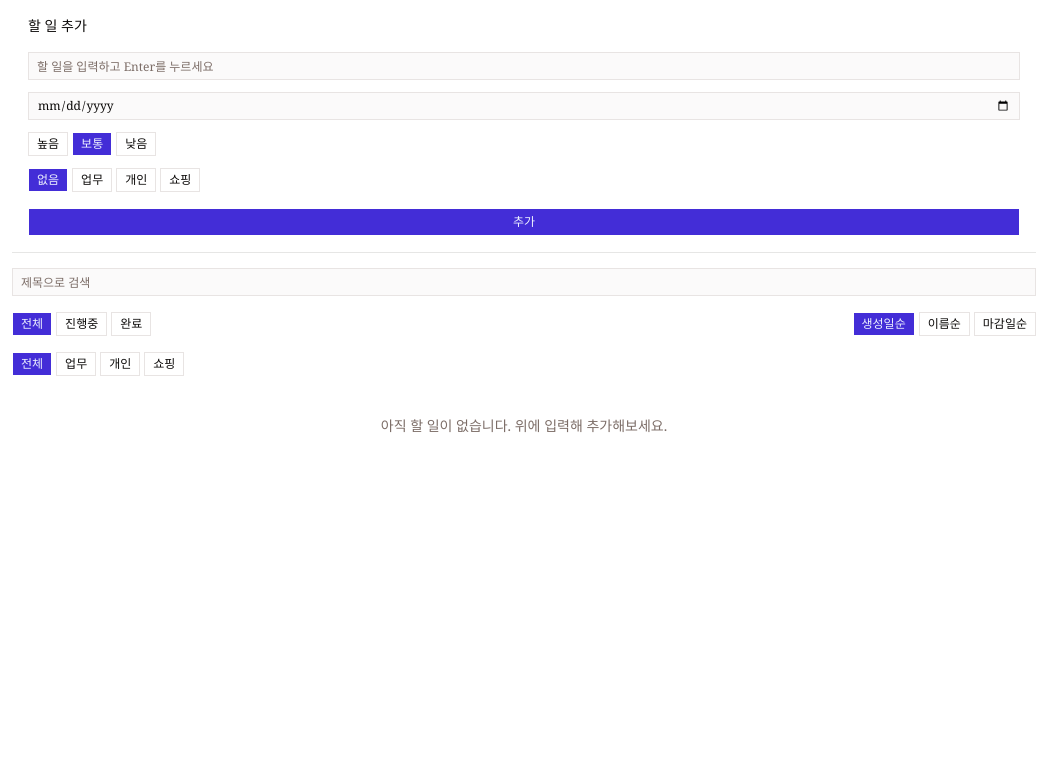
Scenario: Todo 카테고리별 필터 › '업무' 필터 선택 → 업무 태그 항목만 표시된다
Click the radio button labelled "업무" below "할 일 추가". click: point(92, 180)
box: top-left (72, 168), bottom-right (112, 192)
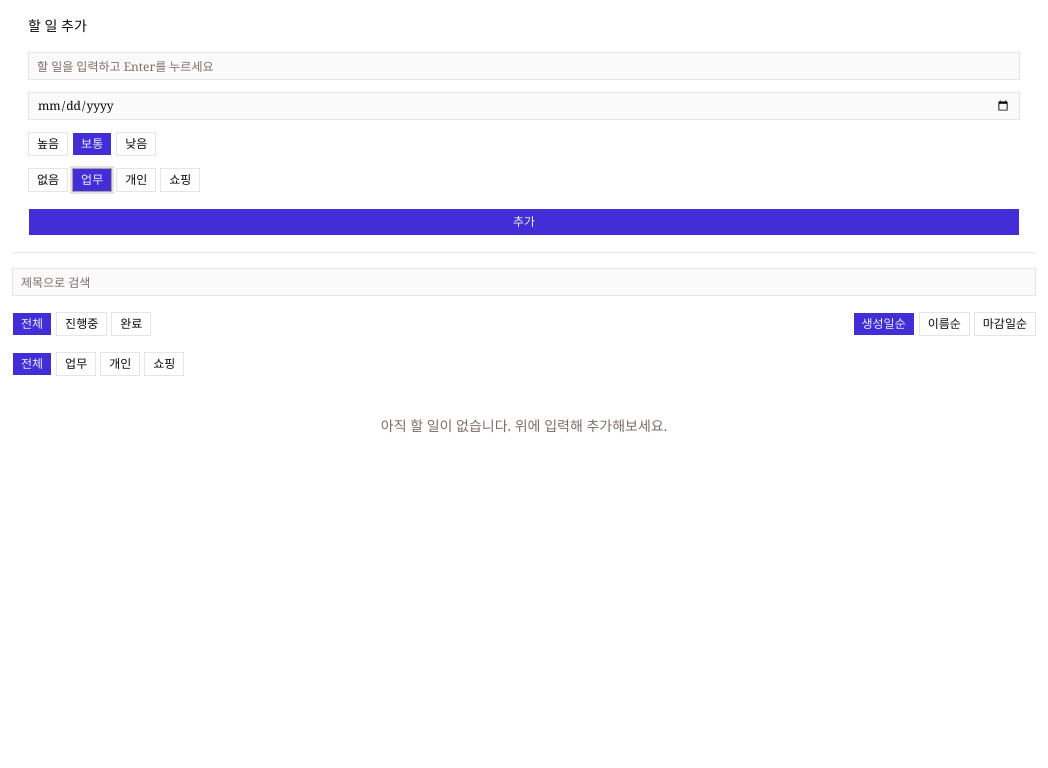
Type "보고서" into the field named "새 할 일". click: point(524, 66)
box: top-left (28, 52), bottom-right (1020, 80)
Then press Enter
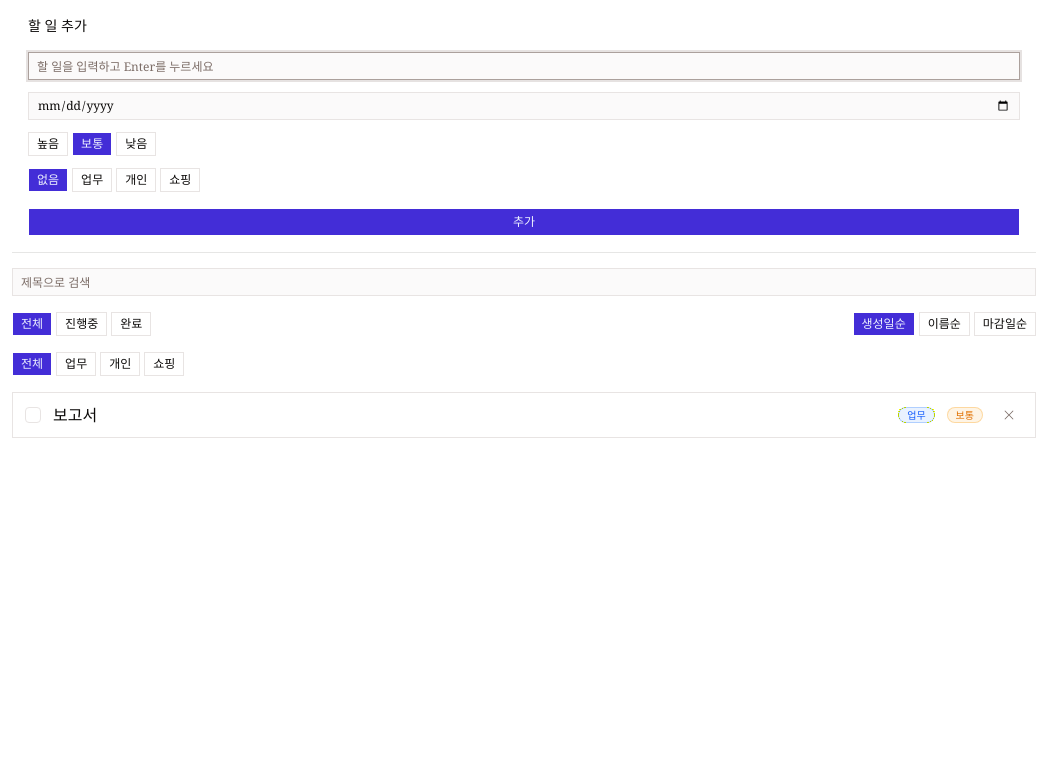
Click the radio button labelled "개인" below "할 일 추가". click: point(136, 180)
box: top-left (116, 168), bottom-right (156, 192)
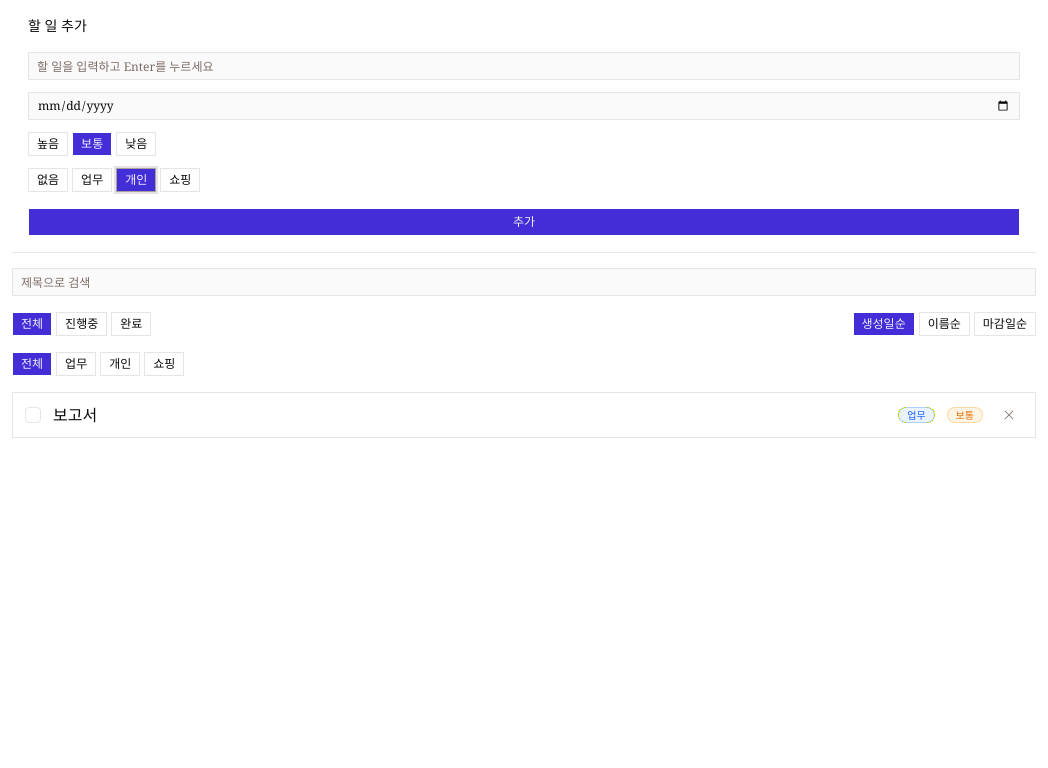
Type "운동" into the field named "새 할 일". click: point(524, 66)
box: top-left (28, 52), bottom-right (1020, 80)
Then press Enter
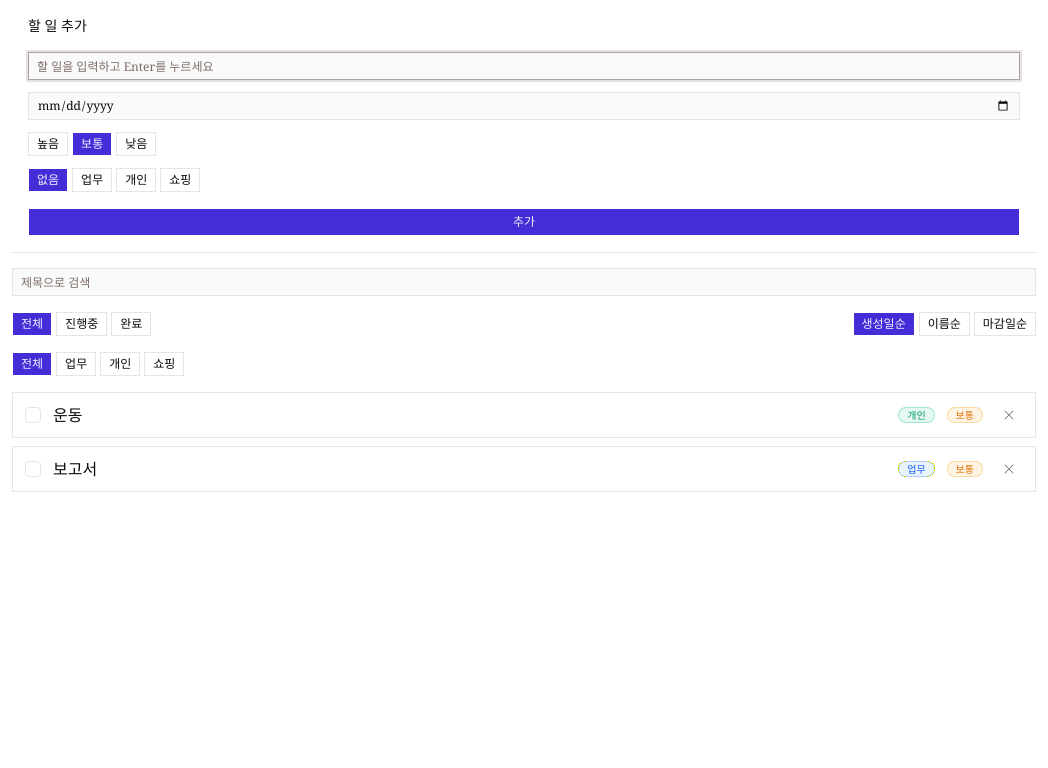
Type "태그없음" into the field named "새 할 일". click: point(524, 66)
box: top-left (28, 52), bottom-right (1020, 80)
Then press Enter
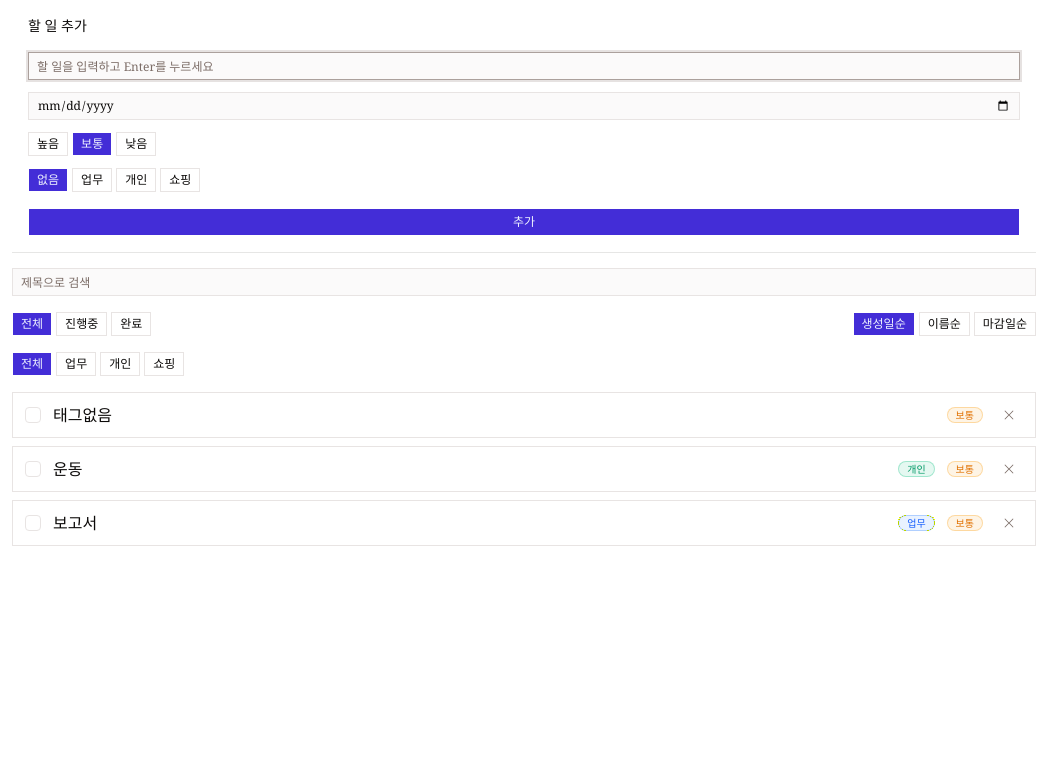
Expected: the text "태그없음" is shown, top-left (53, 404), bottom-right (112, 426)
Click the 2nd radio button labelled "업무". click: point(76, 364)
box: top-left (56, 352), bottom-right (96, 376)
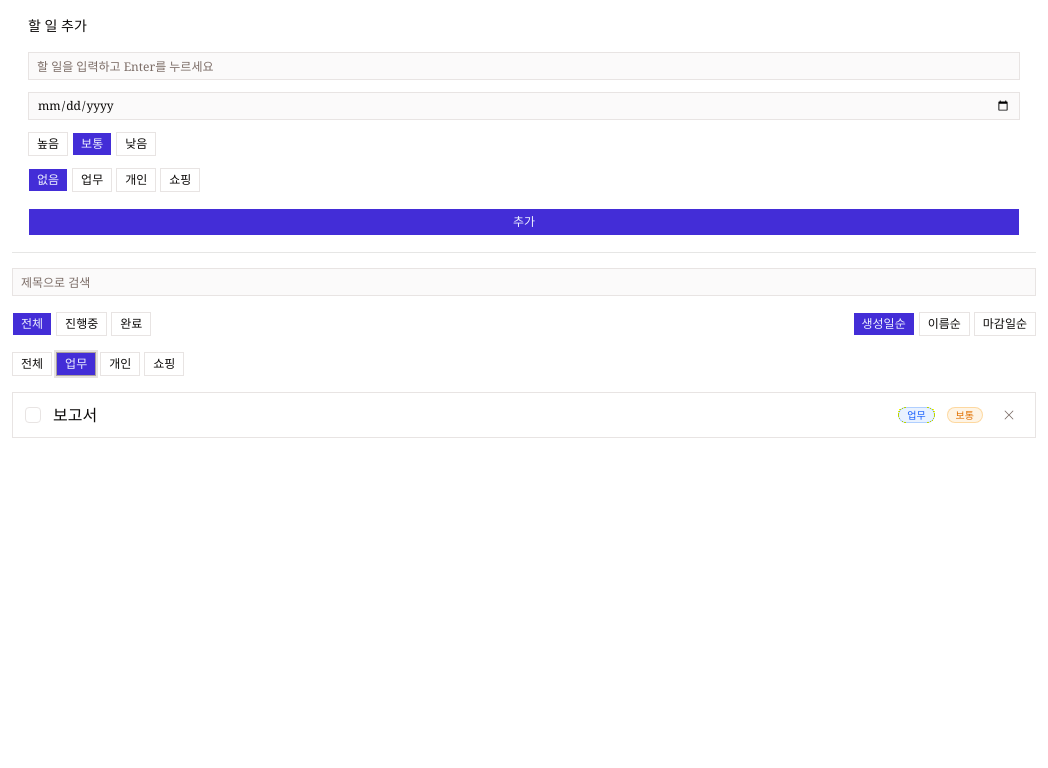
Expected: the text "보고서" is shown, top-left (53, 404), bottom-right (97, 426)
Expected: the text "운동" is gone
Expected: the text "태그없음" is gone
